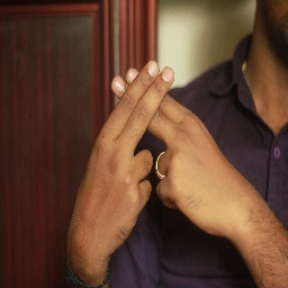F: (85, 51, 215, 201)
